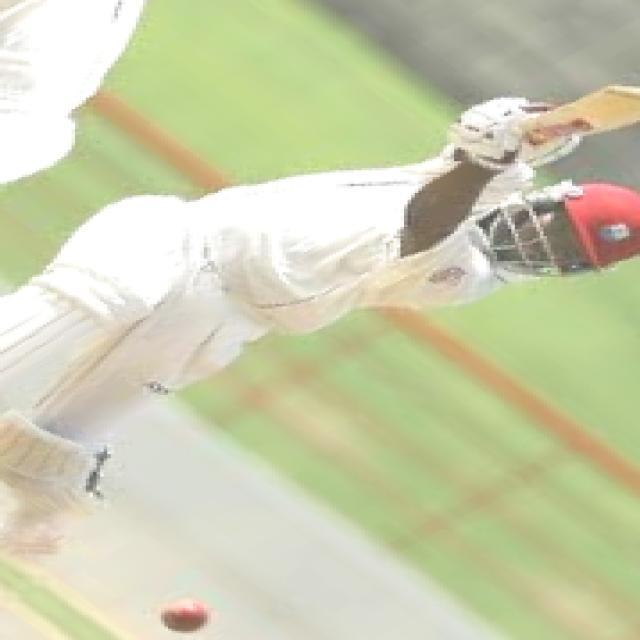bat: (521, 79, 640, 156)
toe: (602, 78, 640, 109)
